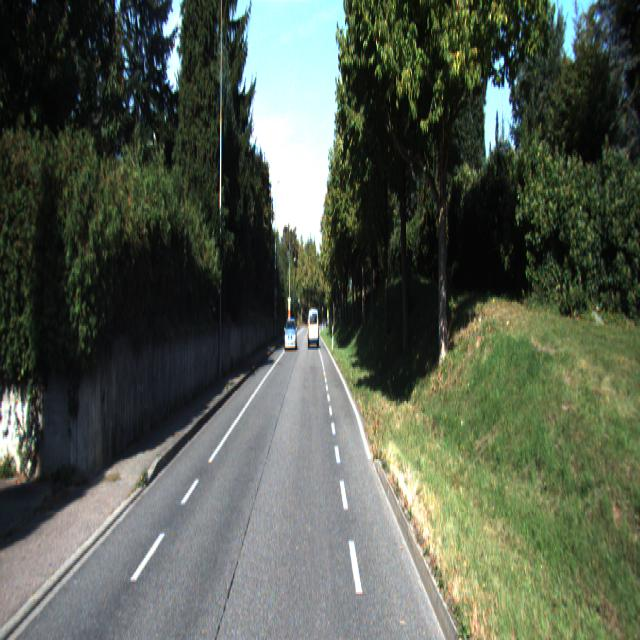Car: (307, 307, 319, 348), (284, 318, 296, 352)
